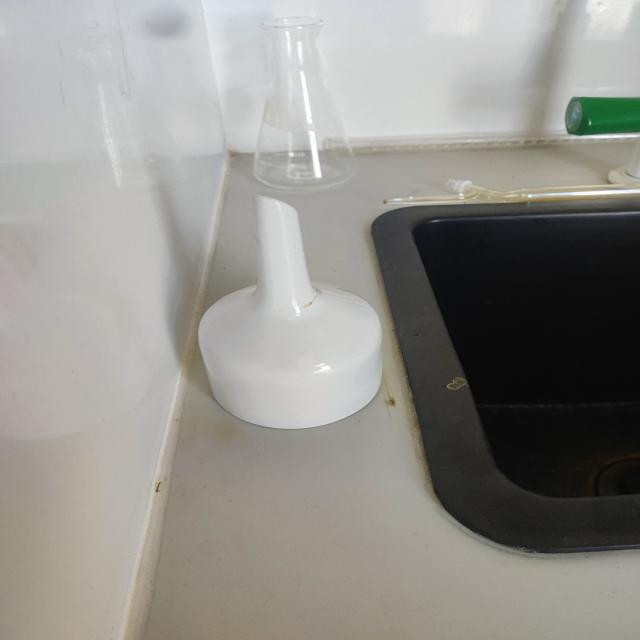Buchner_Funnel: (162, 163, 422, 449)
